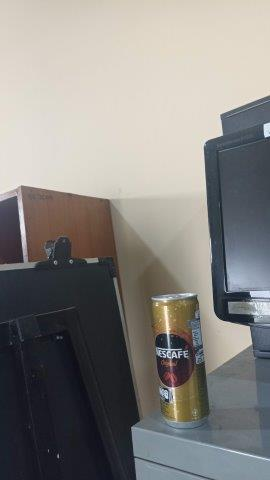kaleng: (150, 293, 210, 430)
